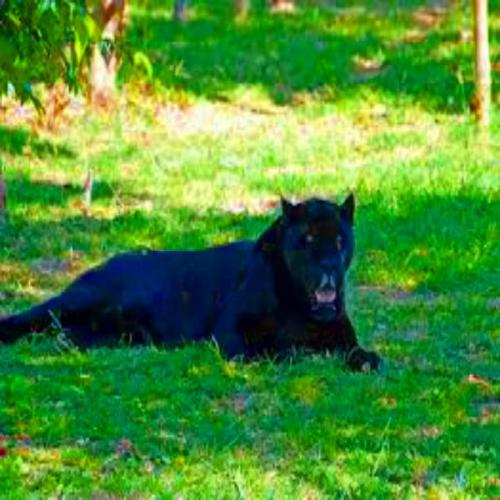panther-endangered: (0, 192, 386, 374)
